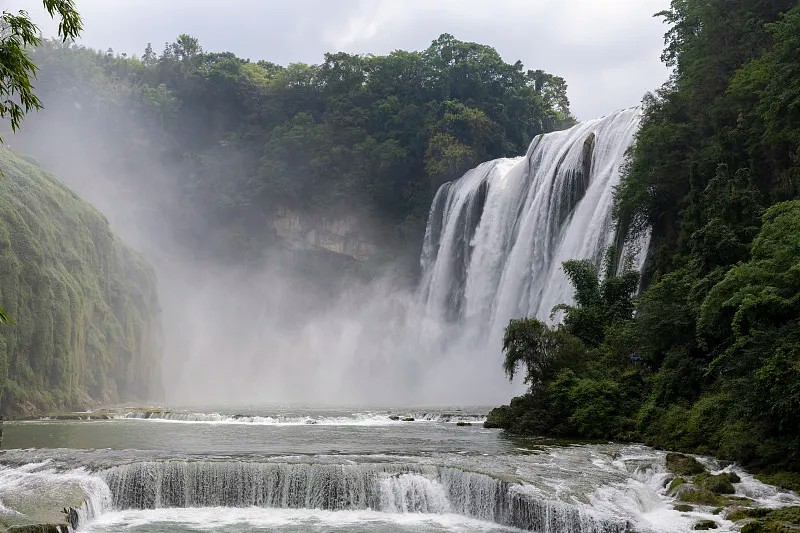Huangguoshu: (419, 106, 649, 404)
